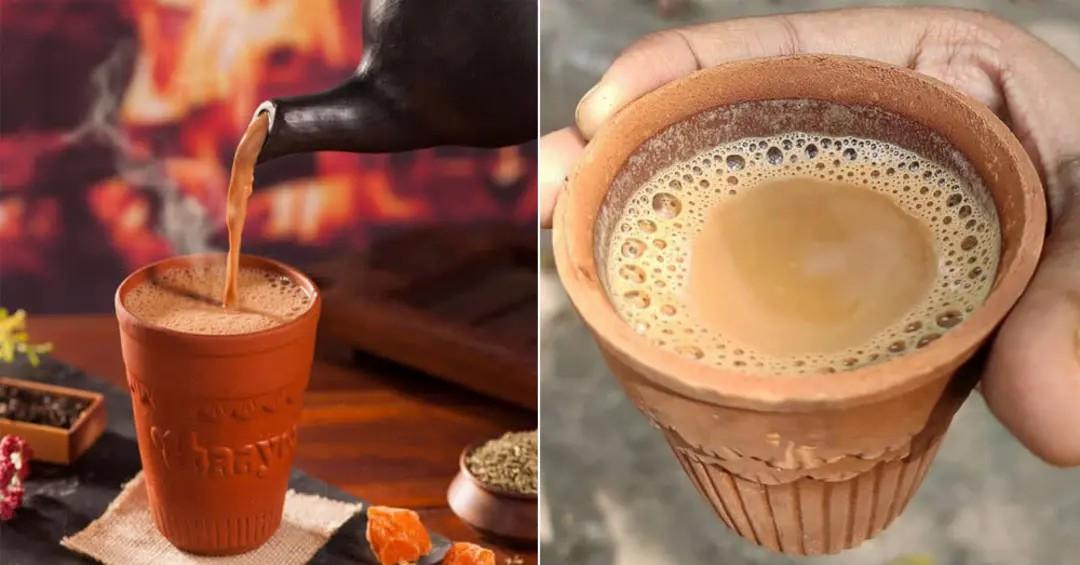Chai: (612, 126, 997, 371), (124, 262, 311, 332), (226, 103, 267, 308)
